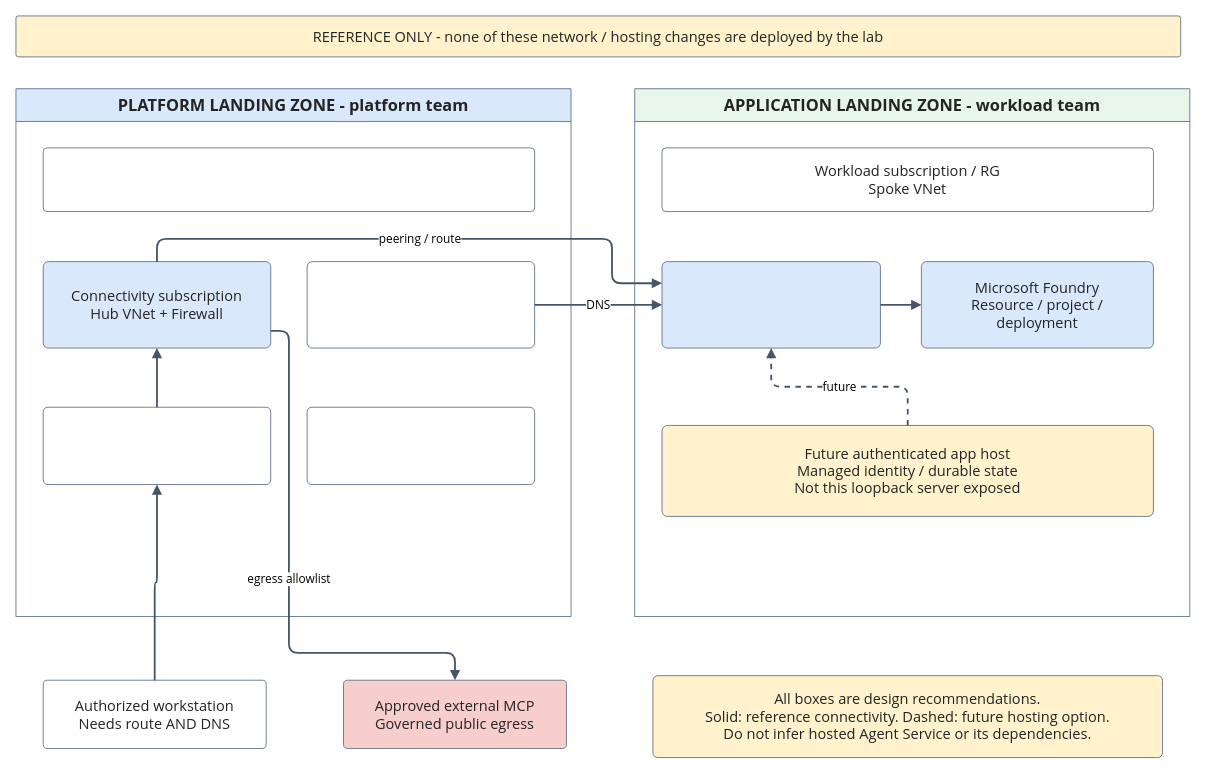
Image size: 1206x774. Some labels were removed from this diagram. Each missing label, with the centre of its shape:
Management groups / Azure Policy Subscription vending / RBAC process: point 288,179
Management subscription Monitor / security standards: point 420,445
Private DNS / resolver Approved name resolution: point 420,304
Private endpoint Private DNS integration: point 770,304
VPN / ExpressRoute Approved hybrid access: point 156,445
